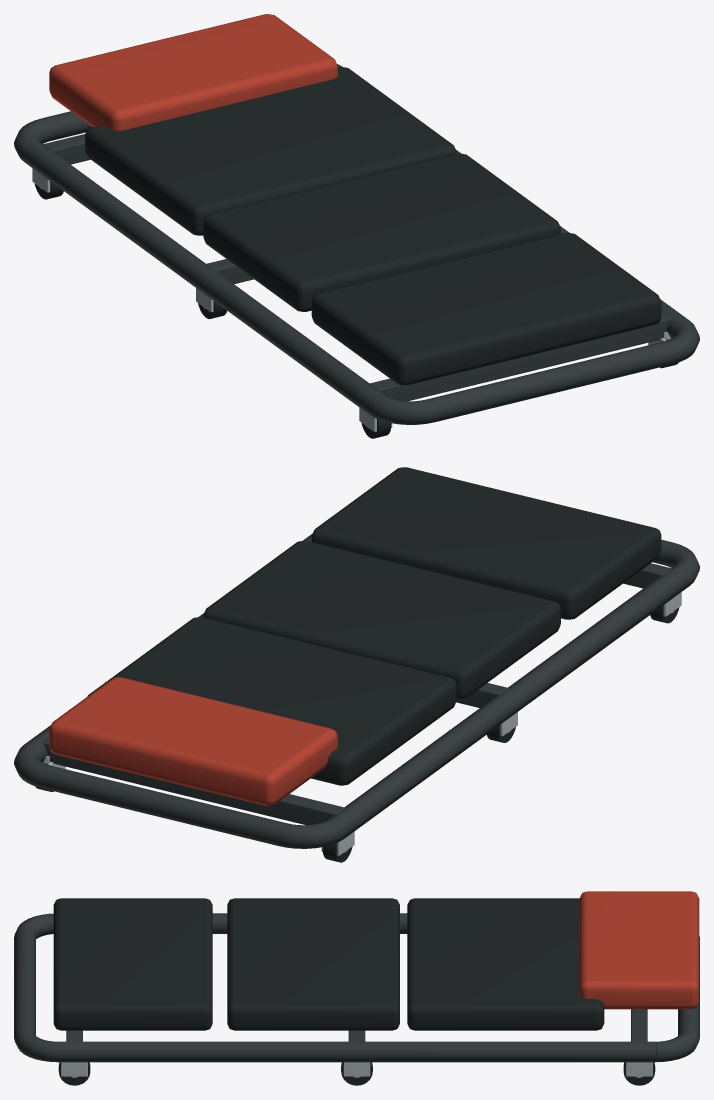
The model's file is garage-mechanic-creeper.glb.
3 renders of one model, top to bottom at view 1: azimuth 30°, elevation 25°; view 2: azimuth 150°, elevation 25°; view 3: azimuth 270°, elevation 25°, orthographic. The views are drawn at different scales.
Visible parts, largest first — view 1: garage-mechanic-creeper authored assembly; view 2: garage-mechanic-creeper authored assembly; view 3: garage-mechanic-creeper authored assembly.
Boxes of the visible parts, bbox=[...] form: garage-mechanic-creeper authored assembly: bbox=[14, 14, 699, 438]; garage-mechanic-creeper authored assembly: bbox=[14, 467, 699, 862]; garage-mechanic-creeper authored assembly: bbox=[14, 891, 699, 1085].
Size of the model in its own units: 0.48 by 0.14 by 1.01.
